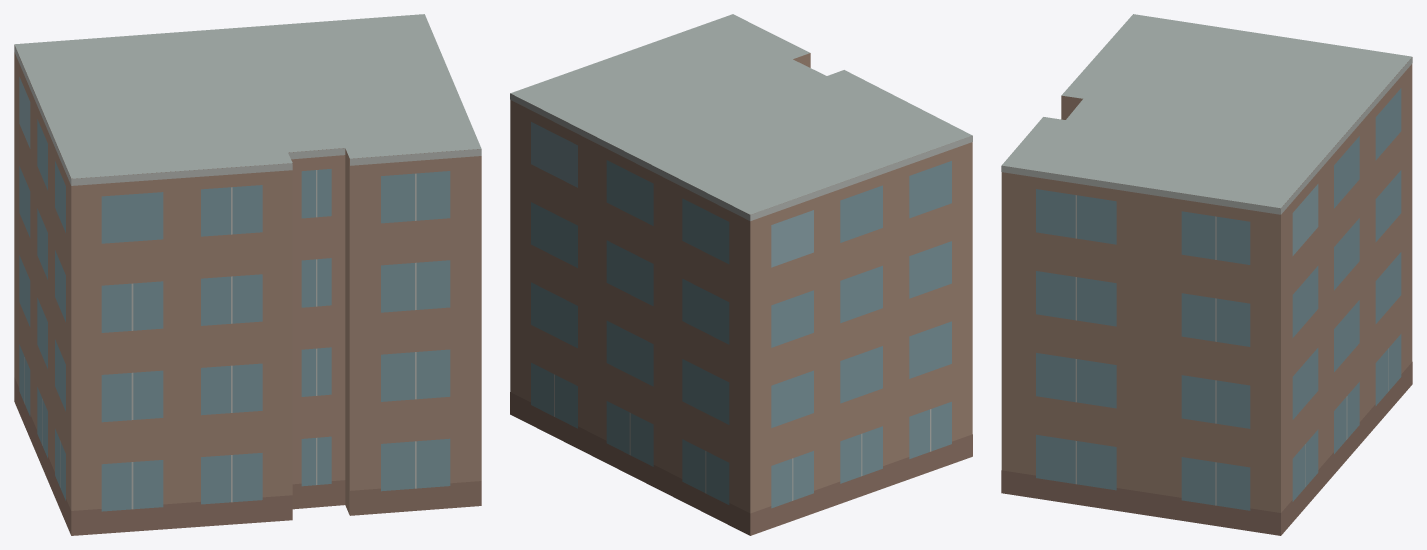
Rendered from survey-upis-32992080.glb.
3 renders of one model, left to right at view 1: azimuth 30°, elevation 25°; view 2: azimuth 150°, elevation 25°; view 3: azimuth 270°, elevation 25°, orthographic. The views are drawn at different scales.
Visible parts, largest first — view 1: survey-upis-32992080.tmp; view 2: survey-upis-32992080.tmp; view 3: survey-upis-32992080.tmp.
Part boxes in pixels (x1,y1,x2,y2): survey-upis-32992080.tmp: [14, 14, 481, 535]; survey-upis-32992080.tmp: [510, 14, 972, 535]; survey-upis-32992080.tmp: [1001, 14, 1412, 535].
Size of the model in its own units: 15.52 by 12.2 by 13.88.
